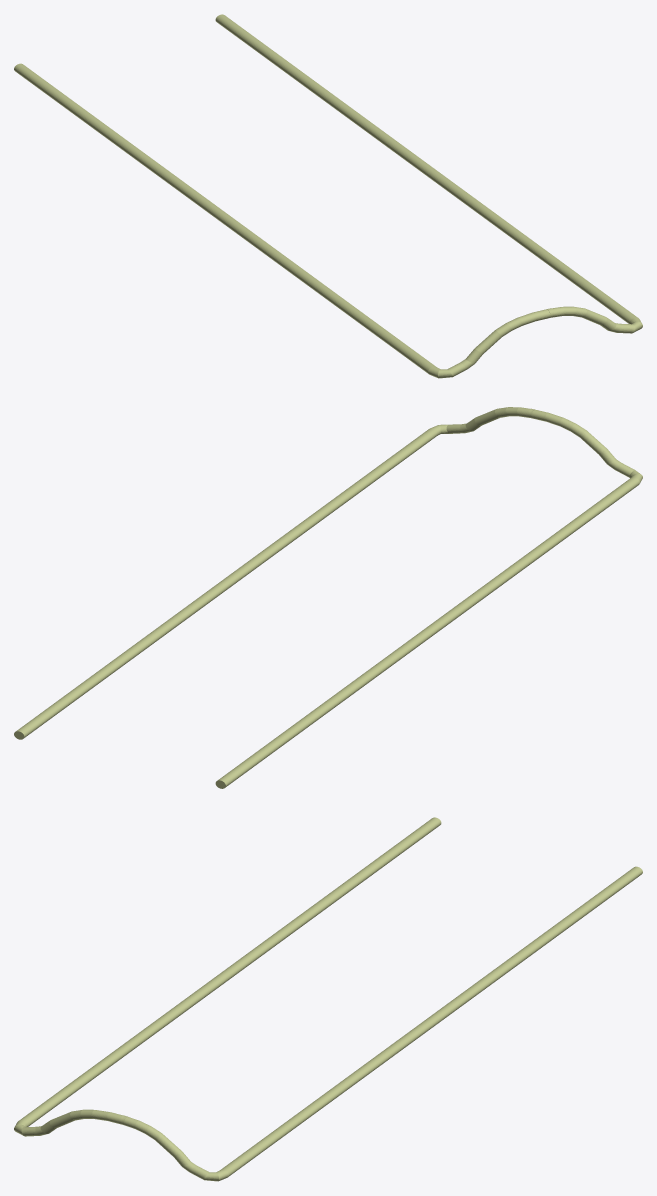
Rendered from over-boiler-handrail.dae.
The picture shows the model from 3 angles, top to bottom: view 1: azimuth 30°, elevation 25°; view 2: azimuth 150°, elevation 25°; view 3: azimuth 330°, elevation 25°; orthographic projection.
Visible parts, largest first — view 1: Cylinder_014; view 2: Cylinder_014; view 3: Cylinder_014.
Boxes of the visible parts, x1,y1,x2,y2 form: Cylinder_014: [14, 14, 642, 378]; Cylinder_014: [14, 407, 642, 788]; Cylinder_014: [14, 817, 642, 1181].
Size of the model in its own units: 0.9703 by 3.36 by 0.1939.
